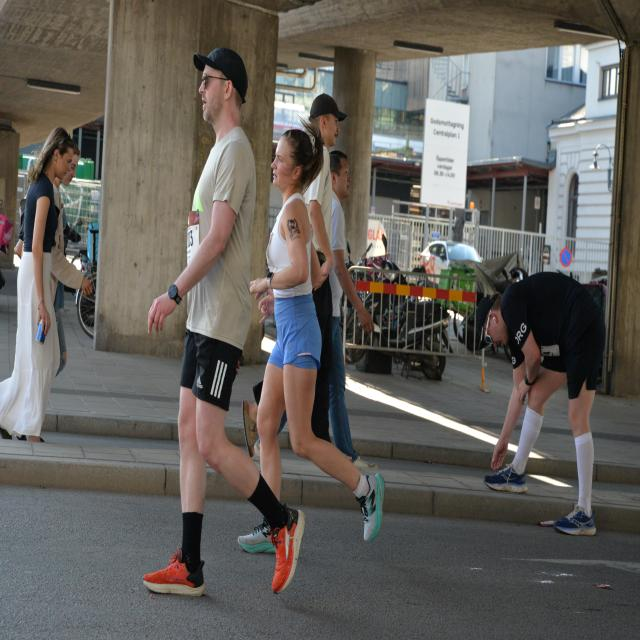runner-detect: (140, 48, 304, 610), (257, 106, 391, 593)
